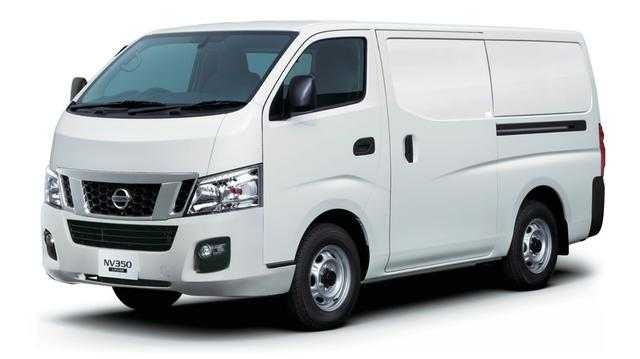van: (38, 18, 606, 330)
